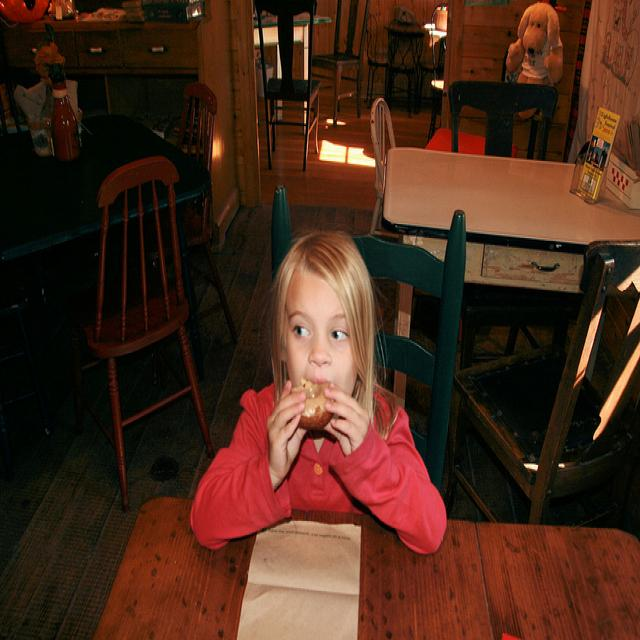chair: (271, 185, 466, 497), (446, 244, 640, 528), (73, 157, 214, 511), (174, 82, 239, 376), (254, 0, 324, 174), (448, 81, 559, 160), (315, 0, 374, 128), (369, 96, 399, 240), (386, 18, 423, 117), (364, 11, 388, 110), (428, 39, 446, 141)
dining table: (81, 495, 627, 631), (381, 146, 640, 399), (1, 28, 213, 271)
